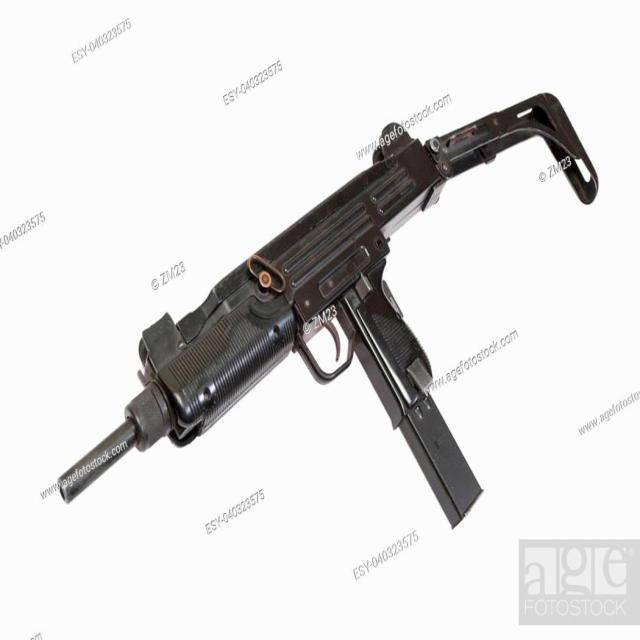SMG: (41, 93, 600, 532)
